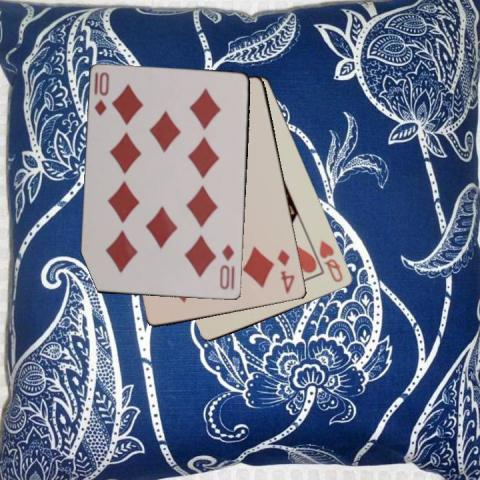10d: (91, 70, 111, 118), (217, 242, 236, 291)
4d: (274, 246, 297, 295)
Qh: (316, 237, 345, 284)
